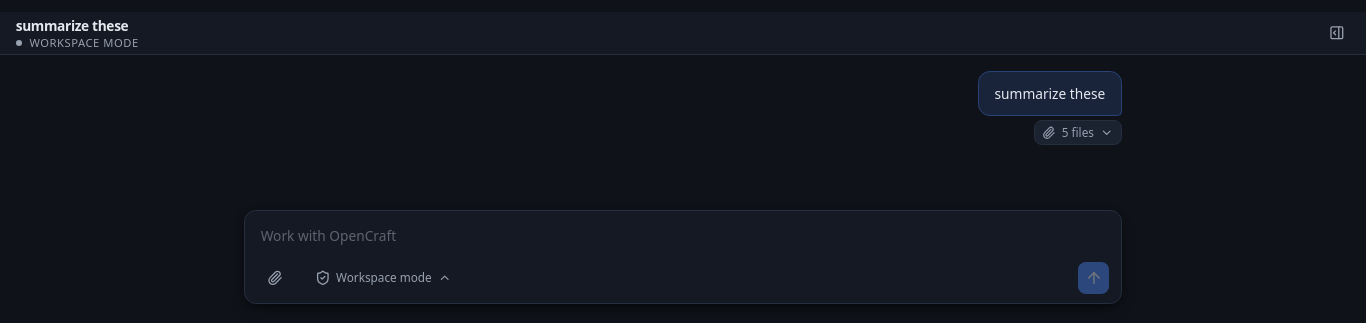
Scenario: ChatView transcript windowing › renders recognizable badges for common document attachments
The width and height of the screenshot is (1366, 323).
Click the button "5 files" at [1078, 133], box [1034,120,1122,145]
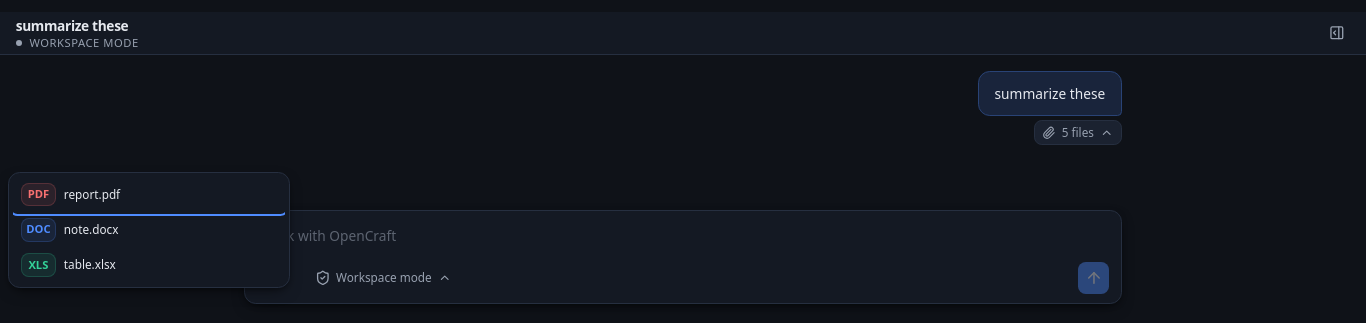
expect the text "PDF" is shown: met, box [21,183,56,206]
expect the text "DOC" is shown: met, box [21,218,56,242]
expect the text "XLS" is shown: met, box [21,253,56,277]
